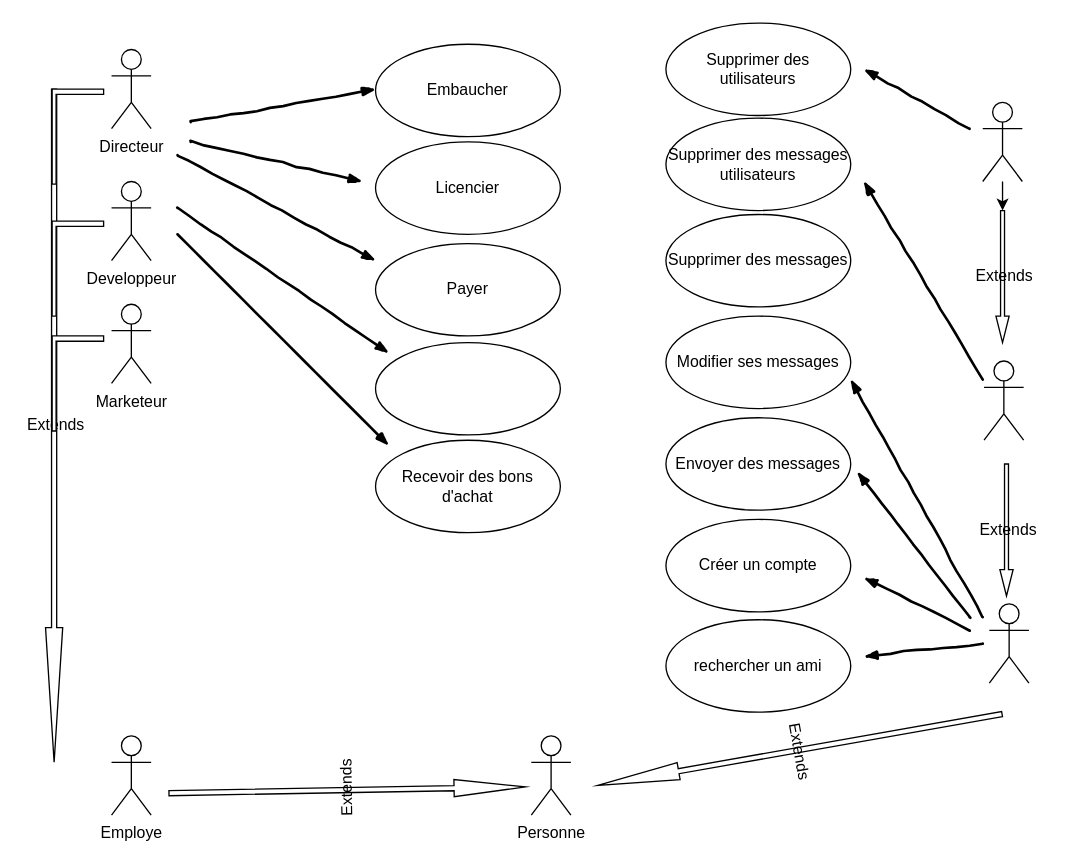
The diagram is 1073 pixels wide and 866 high, and some of its shapes have lost their labels. The shapes that lost their labels are listed below. From the top down, each one's centre as x and y in pixels, then its label:
At point 1001,141: "Moderateur 2".
At point 467,388: "Travailler".
At point 1003,400: "Moderateur 1".
At point 1008,643: "Utilisateur".
